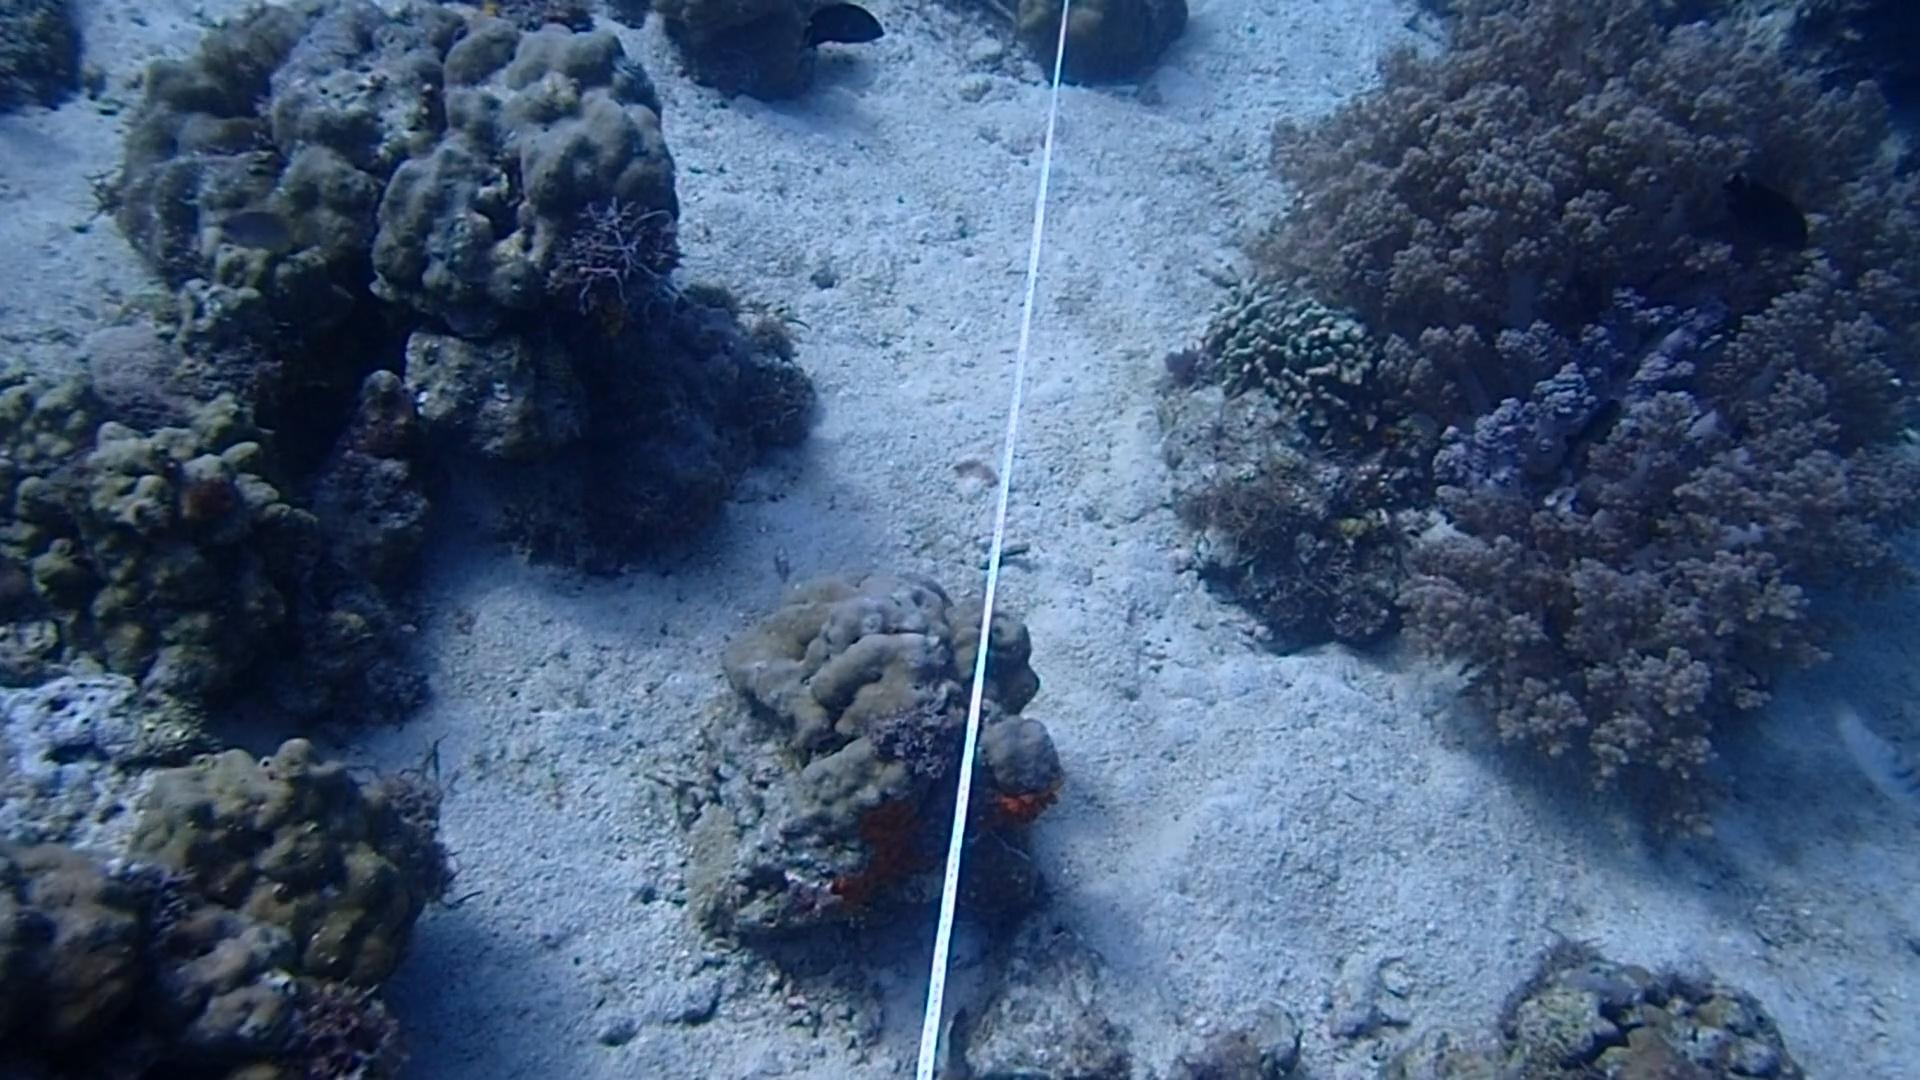Dark Fish: (1706, 153, 1817, 264), (1543, 384, 1627, 465), (798, 0, 899, 62)
Light Fish w Back Stripes: (1829, 702, 1920, 814)
